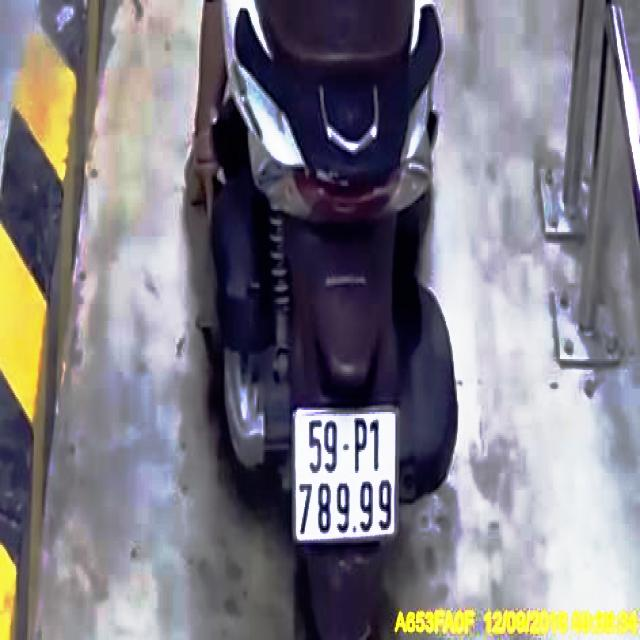license_plate: (297, 412, 400, 538)
